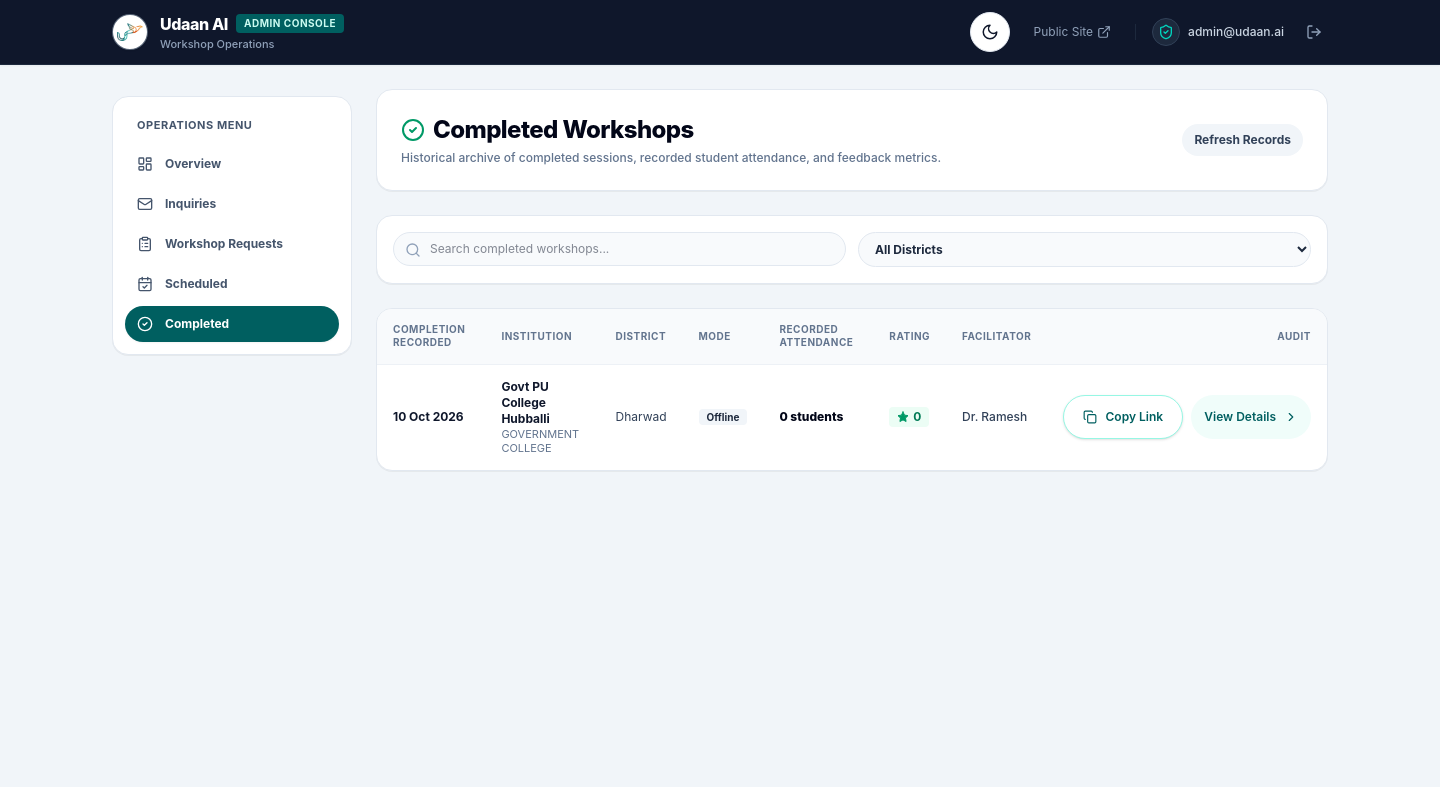
Scenario: AdminCompletedPage Zero-Value and Null Display › displays Awaiting coordinator feedback and handles Copy Feedback Link
The image size is (1440, 787).
Expected: the text "Govt PU College Hubballi" is shown, [501, 379, 550, 426]
Click the button titled "Copy Feedback Link" at (1123, 417), box [1063, 395, 1183, 439]
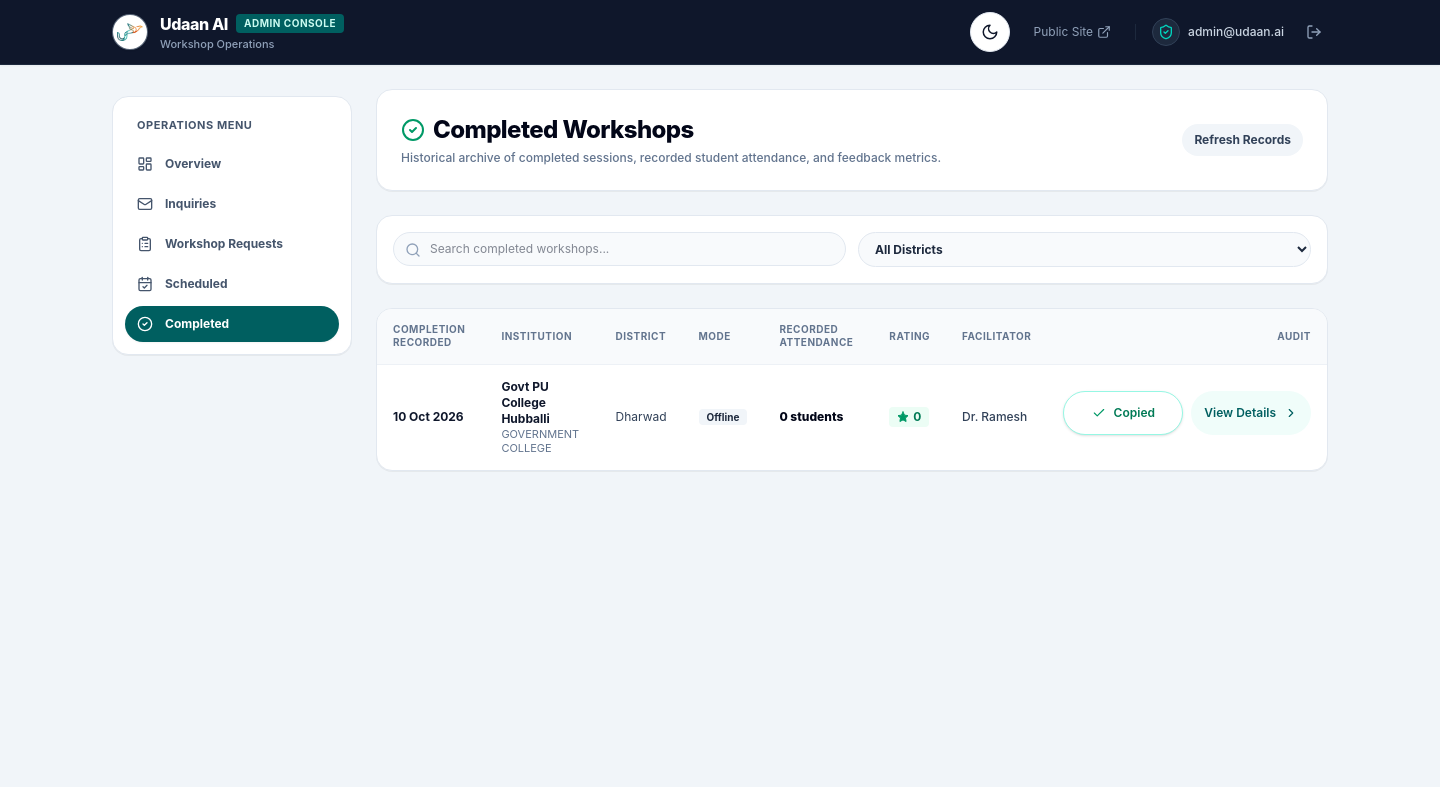
Note: Open drawer
Click the text "Govt PU College Hubballi" at (526, 402), box [501, 379, 550, 426]
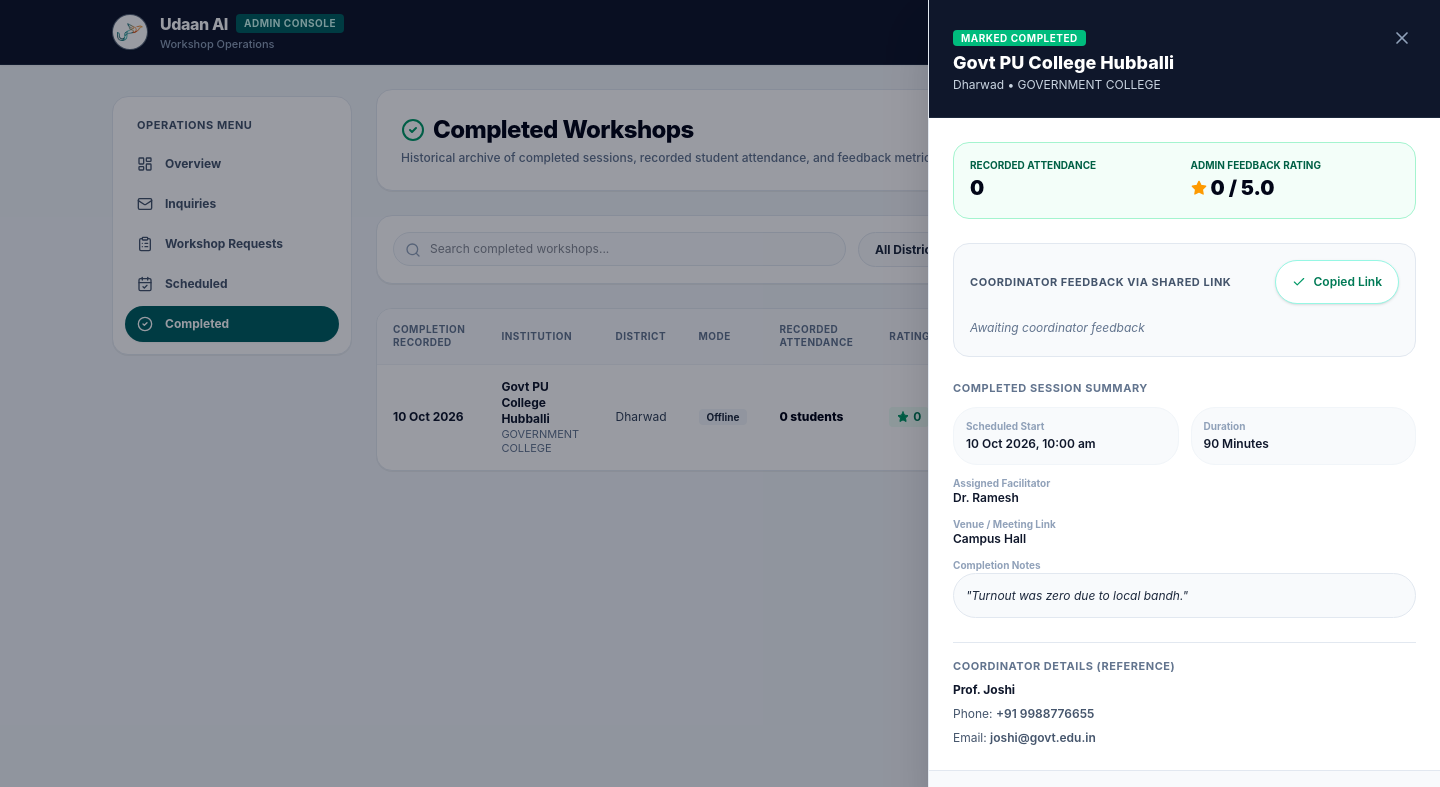
Now the text "Coordinator feedback via shared link" is shown, box [970, 274, 1231, 289]
Now the text "Awaiting coordinator feedback" is shown, box [970, 320, 1145, 335]
